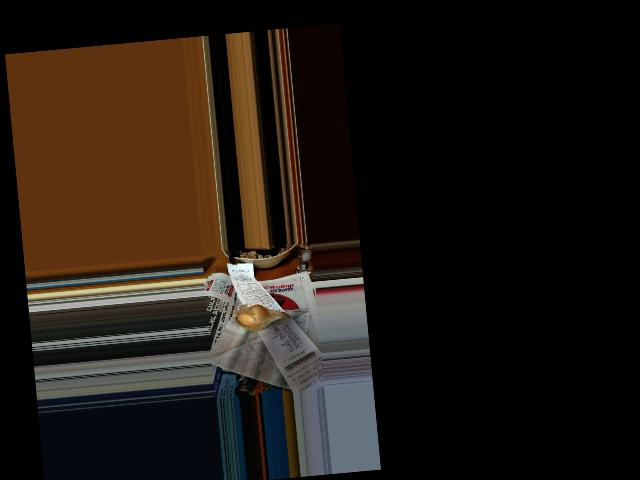onion: (235, 304, 276, 331)
